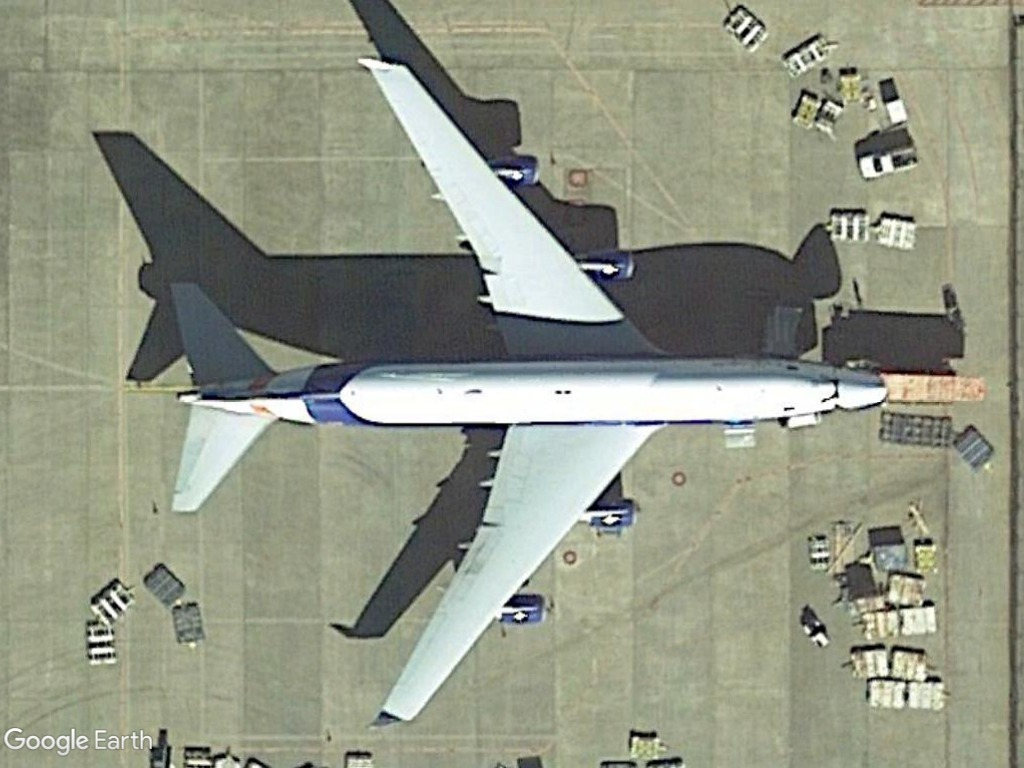airliner: (146, 40, 896, 733)
